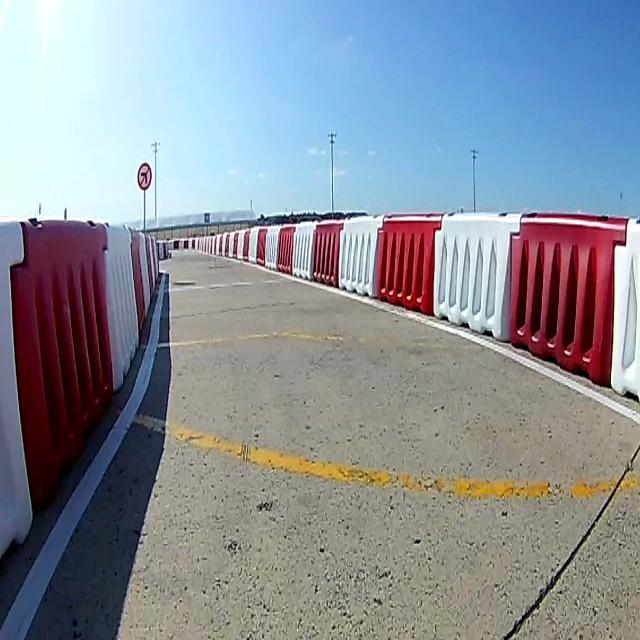soladonulmez: (138, 162, 150, 191)
